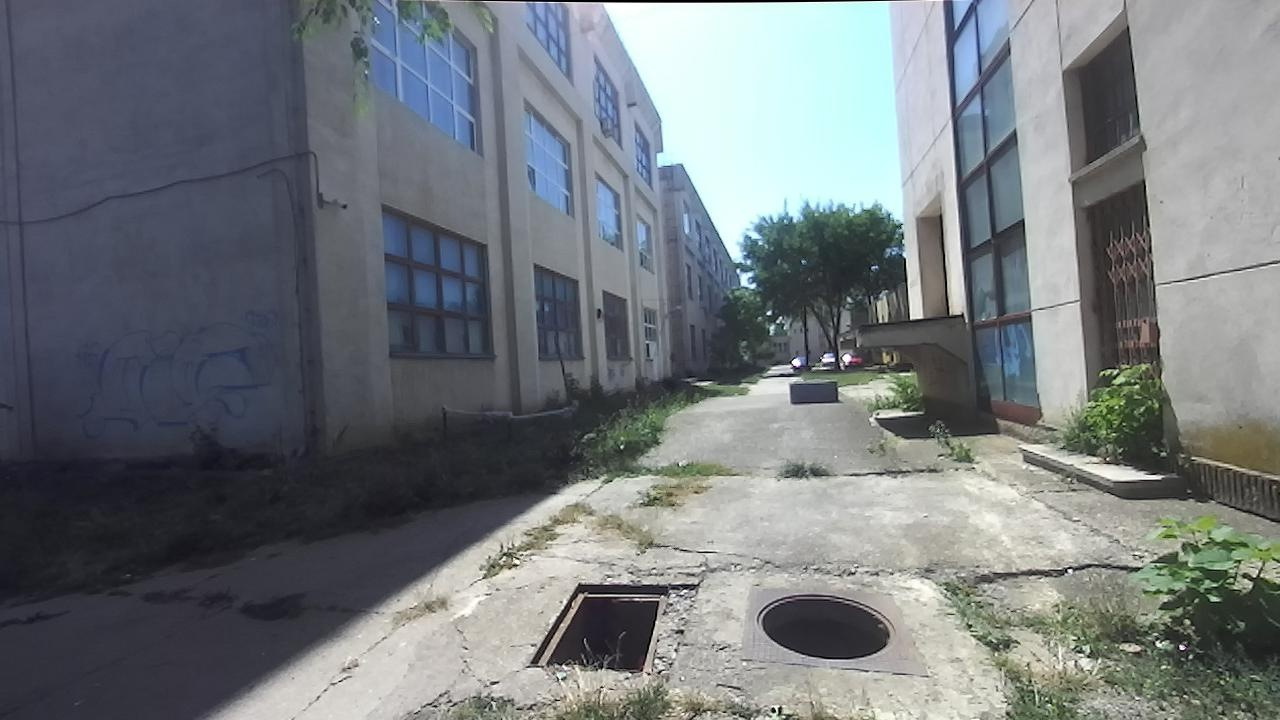drain: (520, 576, 671, 673), (753, 588, 901, 664)
